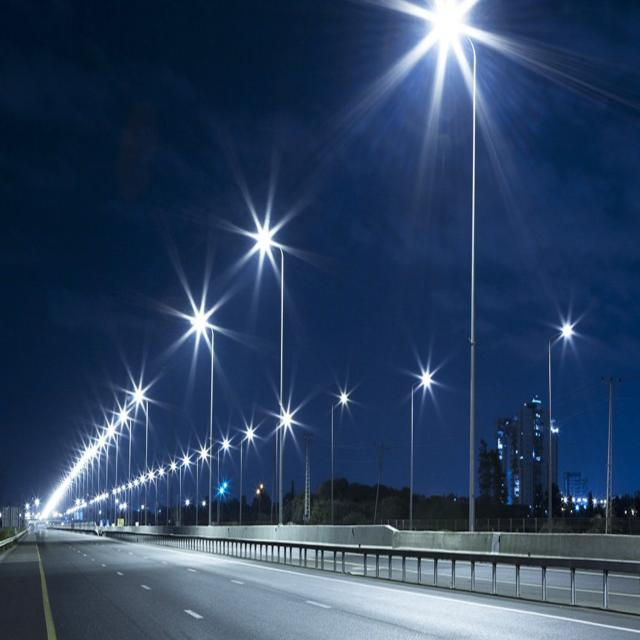Street Light: (435, 18, 477, 540), (252, 228, 284, 525), (548, 323, 573, 531), (192, 315, 215, 526), (409, 373, 431, 529), (330, 392, 348, 526), (275, 410, 293, 522), (133, 391, 148, 524), (238, 426, 252, 525), (218, 441, 230, 522), (178, 457, 191, 527), (196, 448, 208, 523), (166, 463, 177, 527)
